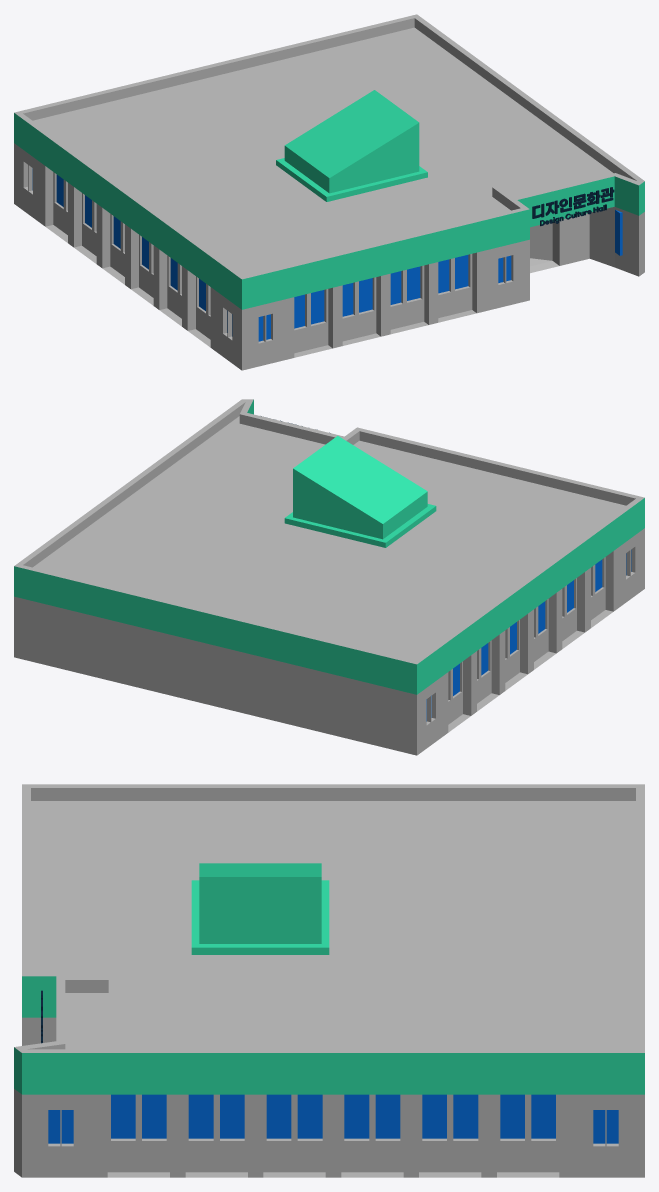
The model's file is 디자인문화관.fbx.
3 renders of one model, top to bottom at view 1: azimuth 30°, elevation 25°; view 2: azimuth 150°, elevation 25°; view 3: azimuth 270°, elevation 25°, orthographic. The views are drawn at different scales.
Visible parts, largest first — view 1: Cube, Cube_1, Cube_101, Cube_119, Extrude_1; view 2: Cube, Cube_1, Cube_119; view 3: Cube, Cube_105, Cube_1, Cube_104, Cube_100.
Part boxes in pixels (bbox=[...]): Cube: bbox=[14, 14, 644, 370]; Cube_1: bbox=[276, 90, 427, 201]; Cube_101: bbox=[294, 255, 468, 328]; Cube_119: bbox=[32, 168, 232, 336]; Extrude_1: bbox=[532, 187, 614, 218]; Cube: bbox=[14, 399, 644, 755]; Cube_1: bbox=[284, 436, 436, 547]; Cube_119: bbox=[426, 550, 631, 721]; Cube: bbox=[14, 784, 644, 1177]; Cube_105: bbox=[111, 1094, 555, 1138]; Cube_1: bbox=[191, 863, 329, 954]; Cube_104: bbox=[48, 1110, 73, 1143]; Cube_100: bbox=[593, 1110, 618, 1143].
Bounding box in the file's own units: 500 × 168 × 496.
